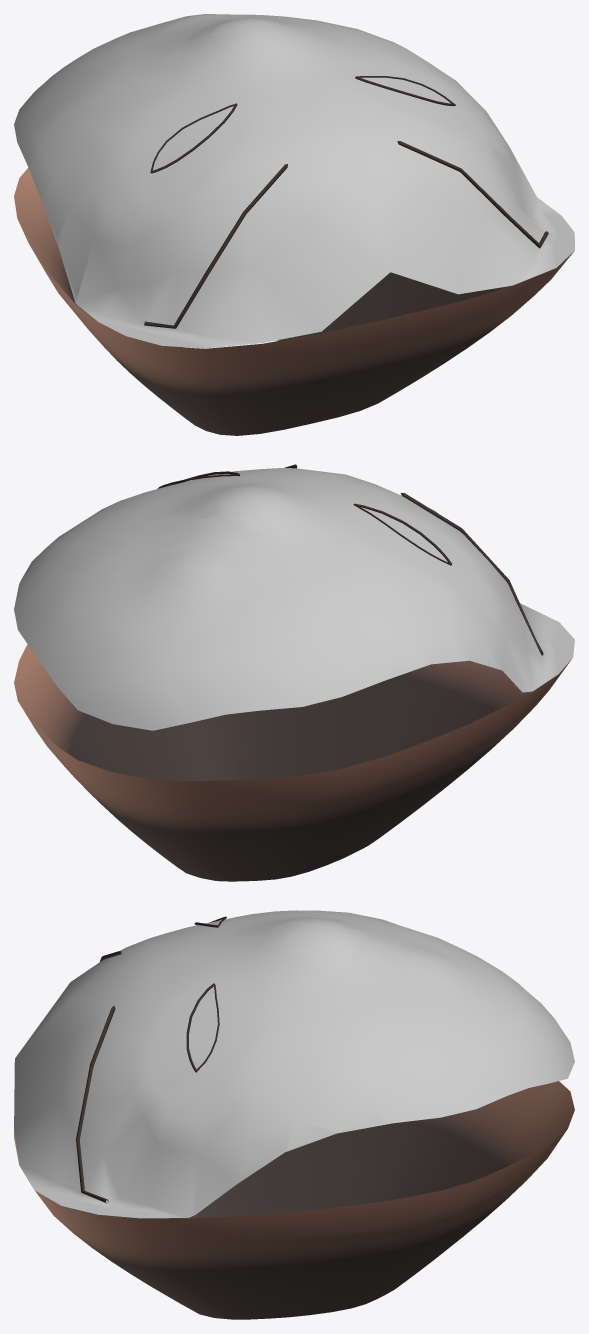
File: lelu_face_reconstructed.glb
The picture shows the model from 3 angles, top to bottom: view 1: azimuth 30°, elevation 25°; view 2: azimuth 150°, elevation 25°; view 3: azimuth 270°, elevation 25°; orthographic projection.
Parts seen in each view (by area): view 1: lelu_face; view 2: lelu_face; view 3: lelu_face.
Boxes of the visible parts, <box> form: lelu_face: <box>14,14,574,435</box>; lelu_face: <box>14,464,574,881</box>; lelu_face: <box>14,910,574,1319</box>.
Size of the model in its own units: 1.03 by 0.7531 by 1.09.
